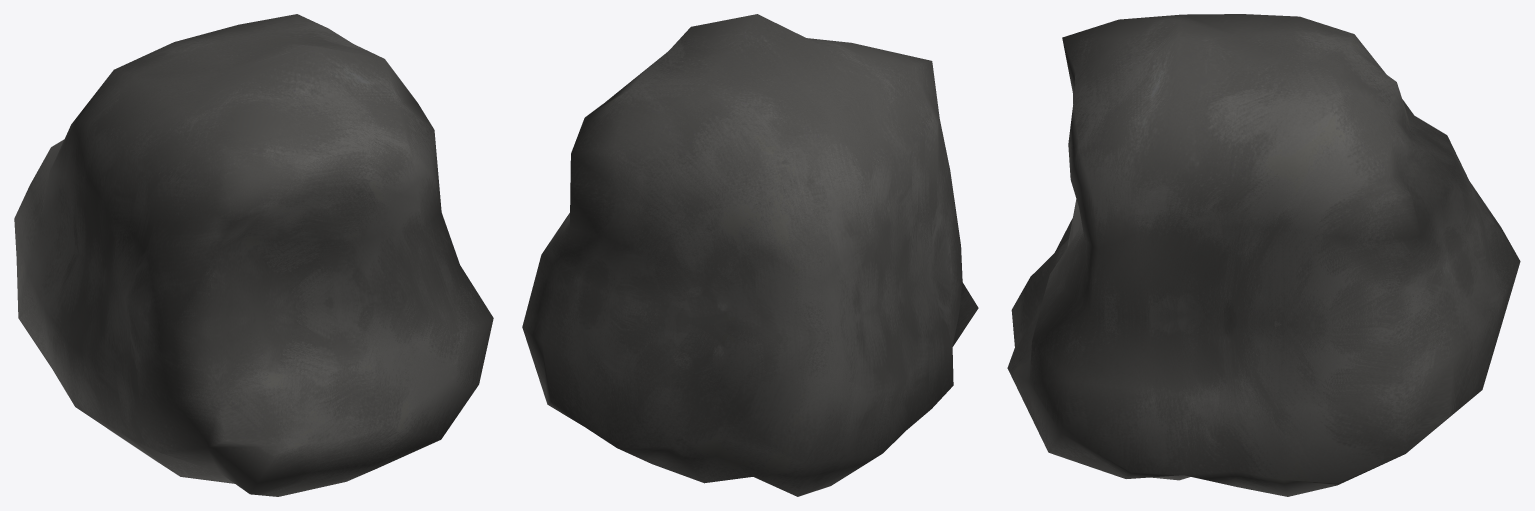
The model's file is Rock01_Geo.fbx.
The picture shows the model from 3 angles, left to right: view 1: azimuth 30°, elevation 25°; view 2: azimuth 150°, elevation 25°; view 3: azimuth 270°, elevation 25°; orthographic projection. The views are drawn at different scales.
Visible parts, largest first — view 1: Rock01_Geo; view 2: Rock01_Geo; view 3: Rock01_Geo.
Part boxes in pixels (left/top/right/bottom): Rock01_Geo: left=14, top=14, right=493, bottom=496; Rock01_Geo: left=522, top=14, right=978, bottom=496; Rock01_Geo: left=1007, top=14, right=1520, bottom=496.
Bounding box in the file's own units: 59.76 × 73.32 × 76.72.
